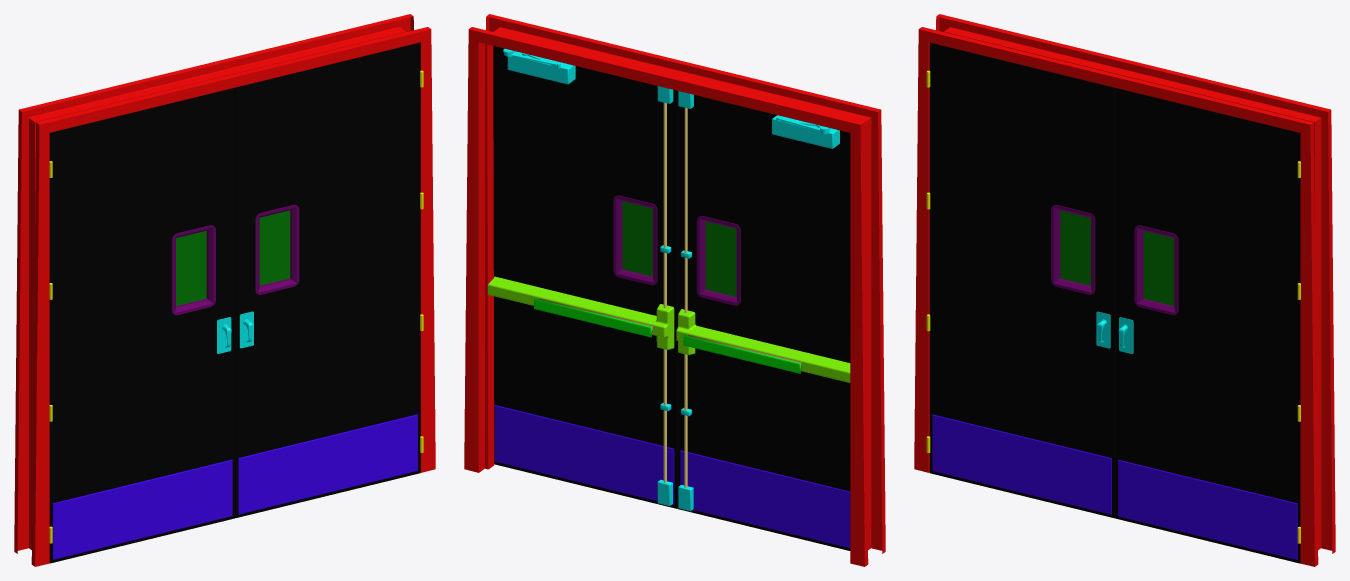
Rendered from Double_Door.fbx.
The picture shows the model from 3 angles, left to right: view 1: azimuth 30°, elevation 25°; view 2: azimuth 150°, elevation 25°; view 3: azimuth 330°, elevation 25°; orthographic projection.
Parts seen in each view (by area): view 1: Double Door; view 2: Double Door; view 3: Double Door.
Boxes of the visible parts, x1=… form: Double Door: x1=14, y1=14, x2=435, y2=566; Double Door: x1=464, y1=14, x2=885, y2=566; Double Door: x1=914, y1=14, x2=1335, y2=566.
Bounding box in the file's own units: 228 × 240 × 25.14.
